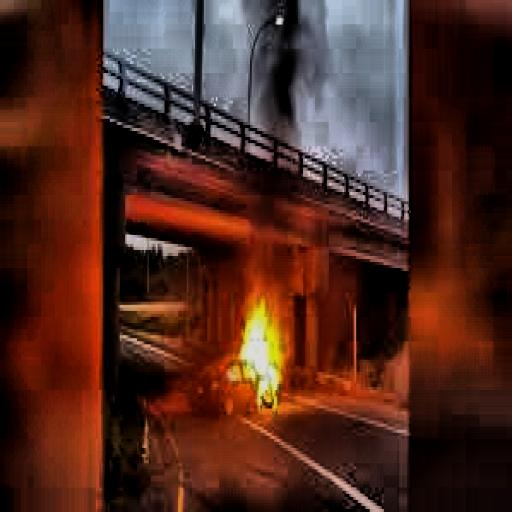fire: (236, 286, 290, 412)
